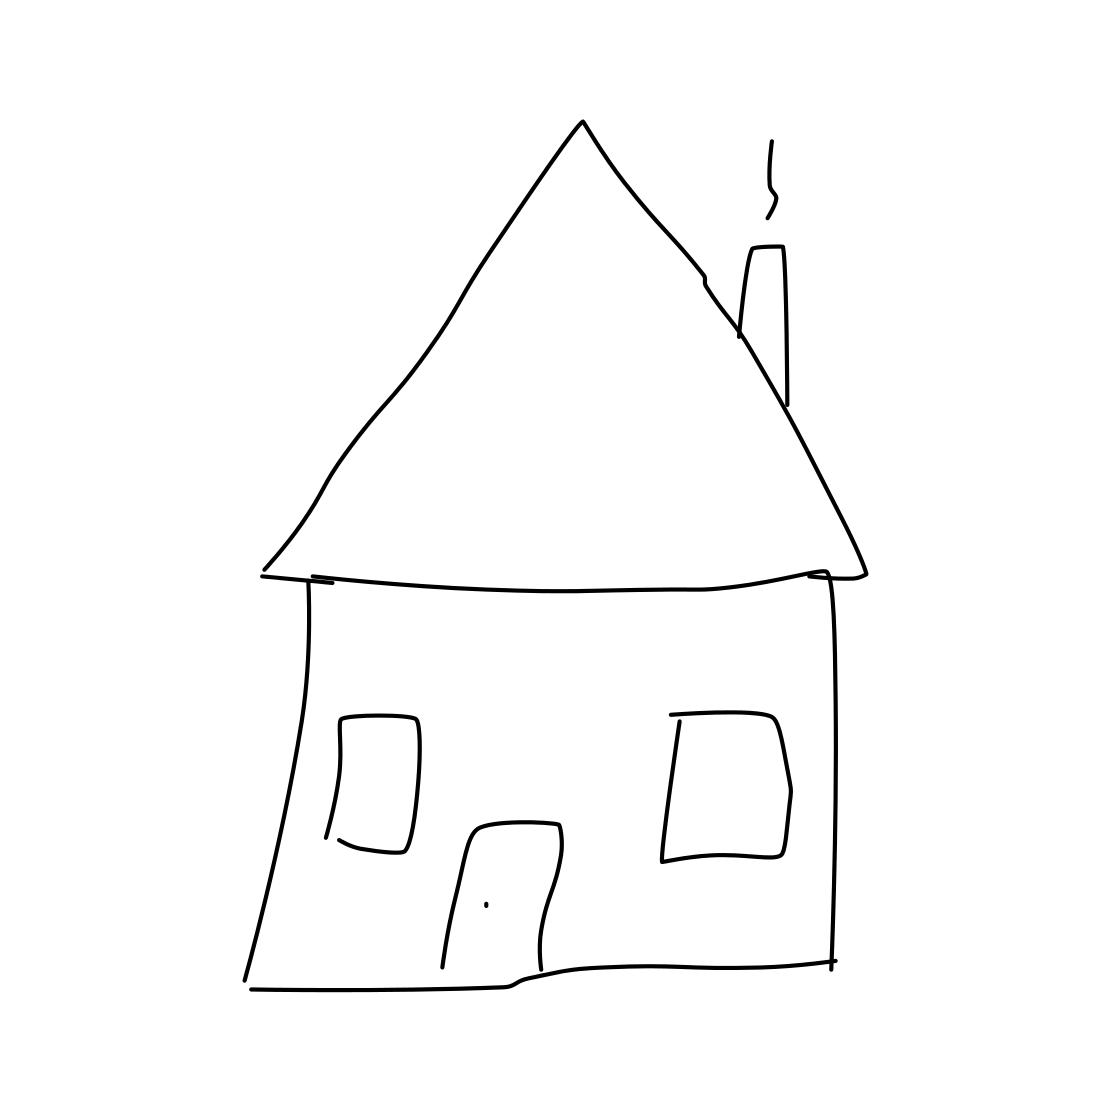House: (199, 69, 889, 1015)
